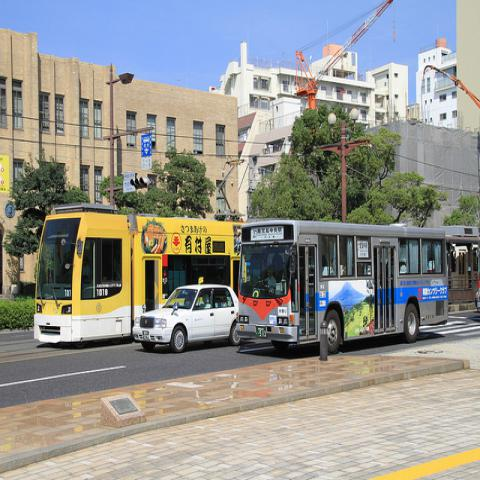bus: (32, 208, 242, 344), (234, 222, 447, 344), (474, 236, 479, 313)
car: (133, 284, 241, 354)
